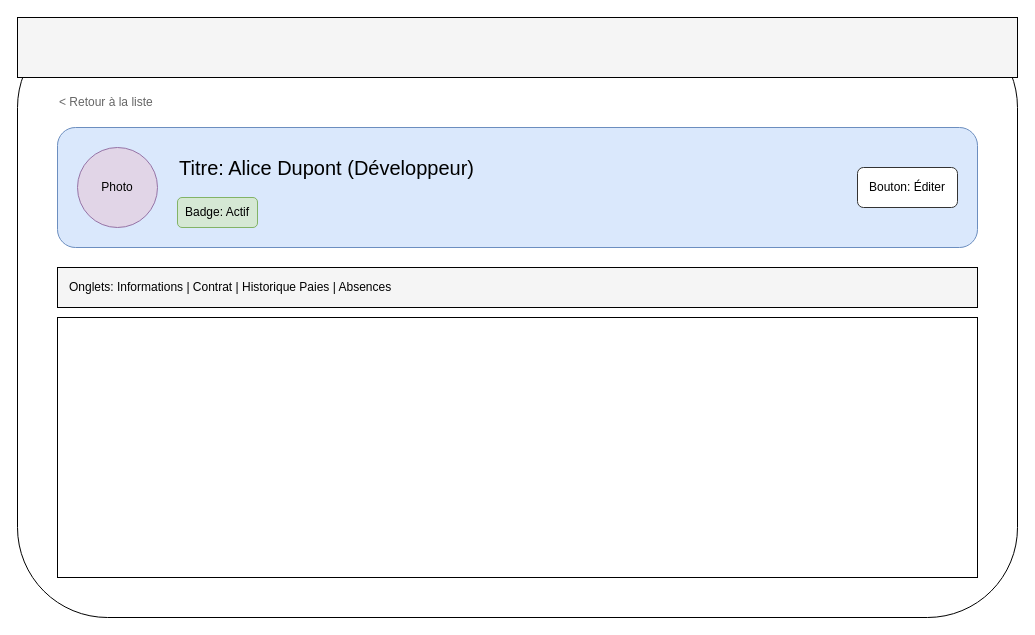
This 1035x635 diagram has some shape labels left out. Each missing label, with the centre of its shape:
"Contenu: Détails personnels (Email, Téléphone, Adresse...)" belongs at pixel 517 447.
"Navbar: Accueil | Employés | Fiches de paie | Paramètres" belongs at pixel 517 47.
